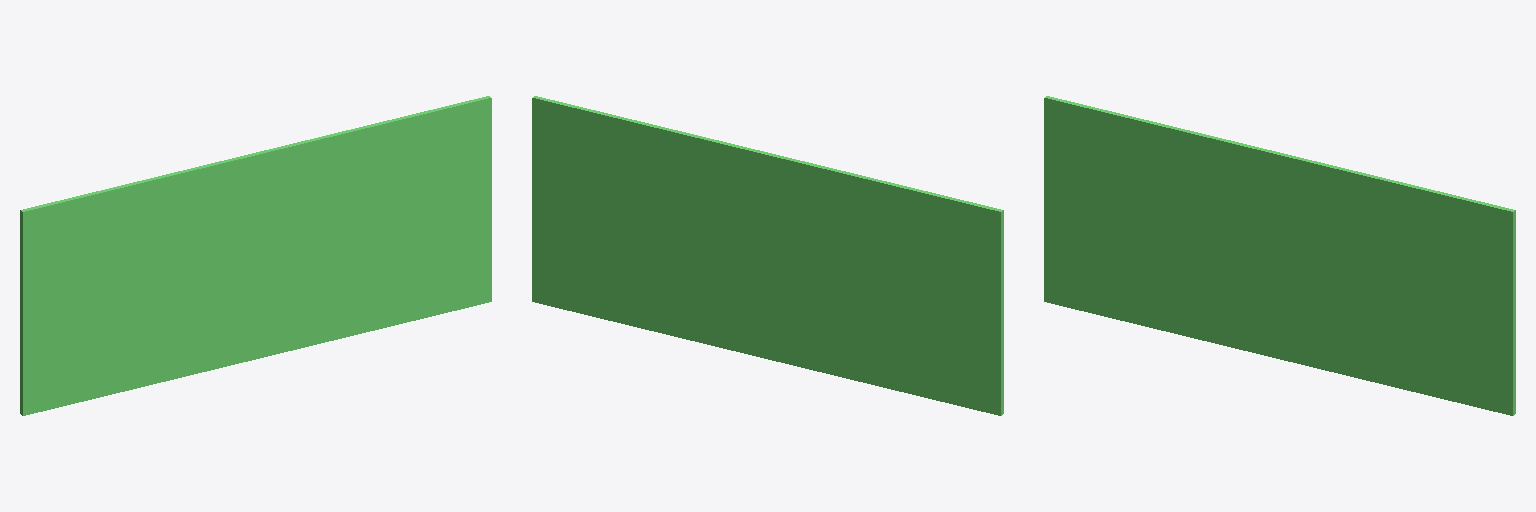
robot.urdf — wall:
<?xml version="1.0"?>
<robot name="wall">

  <!-- 벽(고정 구조물) 루트 프레임 -->
  <link name="wall">
    <visual>
      <origin xyz="0 0 0" rpy="0 0 0"/>
      <geometry>
        <!-- STL이 mm면 0.001, m면 1 -->
        <mesh filename="package://plant/data/assets/structure/wall.stl"
              scale="0.01 0.01 0.005"/>
      </geometry>
      <material name="green">
        <color rgba="0.5 0.9 0.5 0.6"/>
      </material>
    </visual>
  </link>

</robot>

--- Render facts (derived) ---
The picture shows the robot from 3 angles, left to right: view 1: azimuth 30°, elevation 25°; view 2: azimuth 150°, elevation 25°; view 3: azimuth 330°, elevation 25°; orthographic projection.
Robot: wall — 1 links, 0 joints (none); root link wall; default pose: every joint at zero.
Visible links, largest first — view 1: wall; view 2: wall; view 3: wall.
Boxes of the visible links, box(x1,y1,x2,y2) form: wall: box(20, 96, 491, 415); wall: box(532, 96, 1003, 415); wall: box(1044, 96, 1515, 415).
Bounding box of the posed robot: 3 × 0.03 × 1.25 m (x, y, z).
Meshes: 1 distinct files referenced, 1 mesh visuals loaded (1 binary STL).
